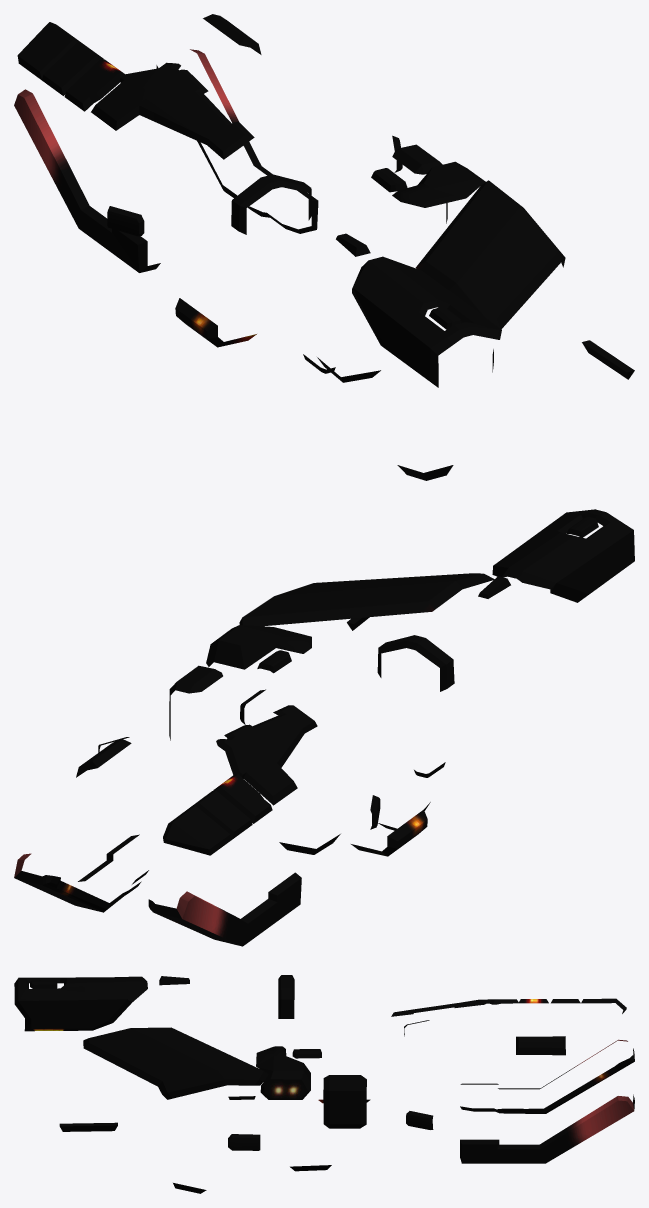
File: p1_cc_comm_01_t1.glb
3 renders of one model, top to bottom at view 1: azimuth 30°, elevation 25°; view 2: azimuth 150°, elevation 25°; view 3: azimuth 270°, elevation 25°, orthographic. The views are drawn at different scales.
Visible parts, largest first — view 1: p1_assault_frigate_carrier_LOD0; view 2: p1_assault_frigate_carrier_LOD0; view 3: p1_assault_frigate_carrier_LOD0.
Part boxes in pixels (x1,y1,x2,y2): p1_assault_frigate_carrier_LOD0: (14, 14, 634, 480); p1_assault_frigate_carrier_LOD0: (14, 509, 634, 946); p1_assault_frigate_carrier_LOD0: (14, 975, 634, 1193).
Size of what is drawn, in the model's own units: 1.75 by 1.53 by 4.63.
Materials: 1 (1 with a texture image).
